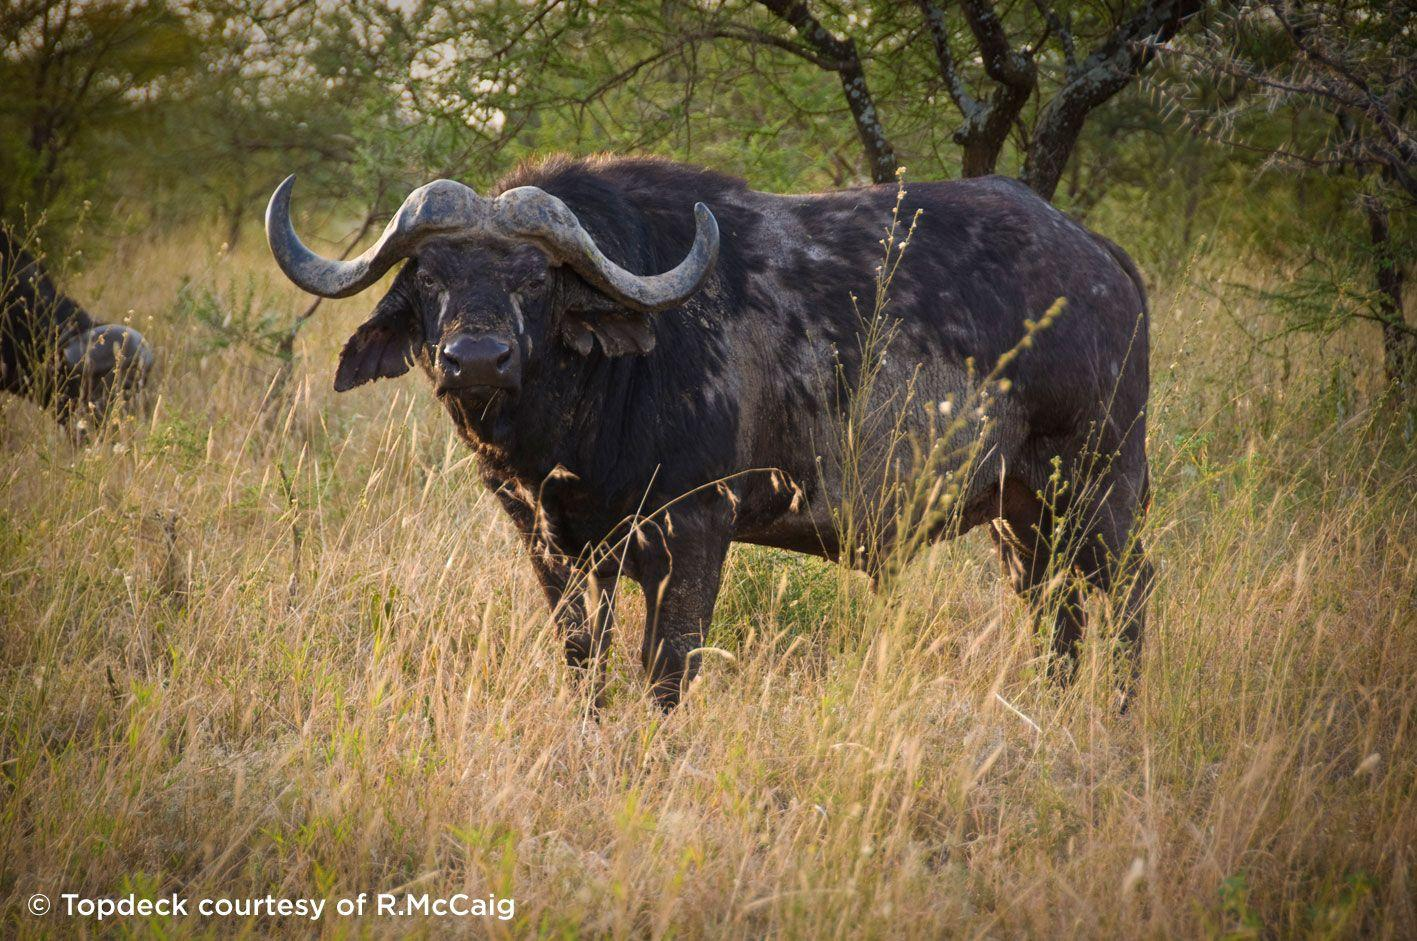Buffalo: (283, 93, 1214, 828)
